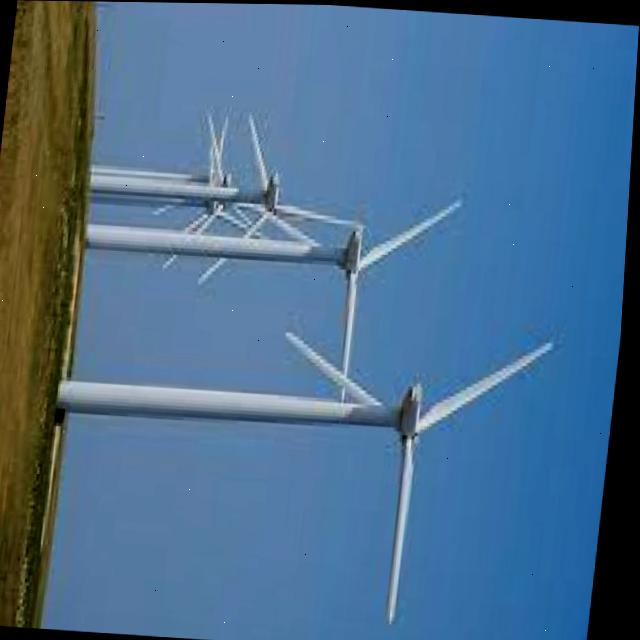solid-blade: (422, 340, 557, 429), (360, 198, 464, 269), (289, 331, 385, 404), (393, 436, 419, 623), (248, 113, 269, 189), (277, 205, 361, 223)
